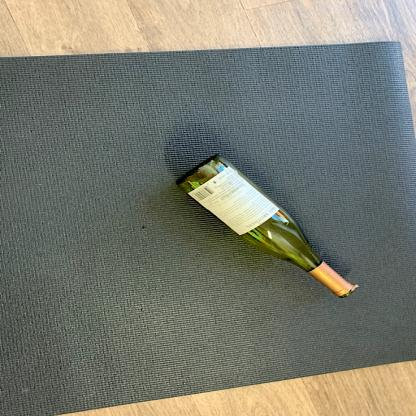trash: (172, 152, 359, 299)
